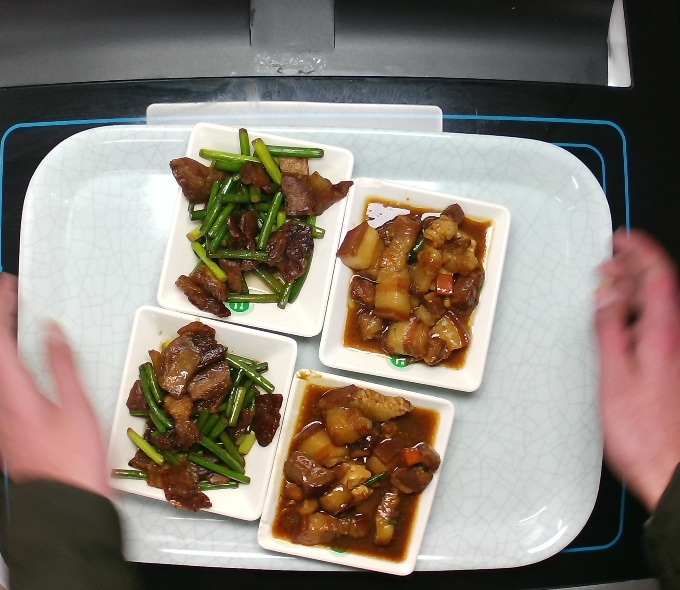wcq-HongShaoRou: (277, 377, 445, 549), (327, 199, 494, 372)
wcq-SuanMiaoChaoRou: (167, 122, 358, 325), (106, 317, 286, 515)
